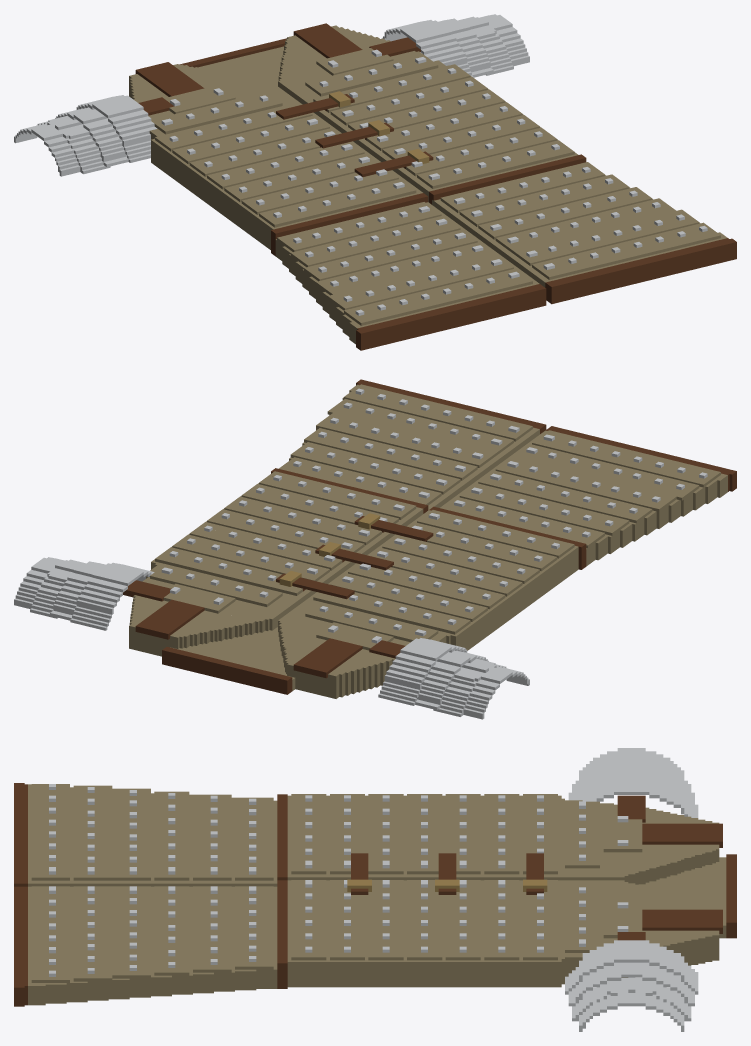
File: lc_coat_brigandine_shoulders.glb
3 views of the same model, one above another, from view 1: azimuth 30°, elevation 25°; view 2: azimuth 150°, elevation 25°; view 3: azimuth 270°, elevation 25° (orthographic). The views are drawn at different scales.
Visible parts, largest first — view 1: lc_coat_brigandine_shoulders:compound; view 2: lc_coat_brigandine_shoulders:compound; view 3: lc_coat_brigandine_shoulders:compound.
Boxes of the visible parts, x1,y1,x2,y2 form: lc_coat_brigandine_shoulders:compound: [14, 14, 736, 350]; lc_coat_brigandine_shoulders:compound: [14, 379, 736, 719]; lc_coat_brigandine_shoulders:compound: [14, 748, 736, 1031].
Size of the model in its own units: 0.688 by 0.048 by 0.824.
